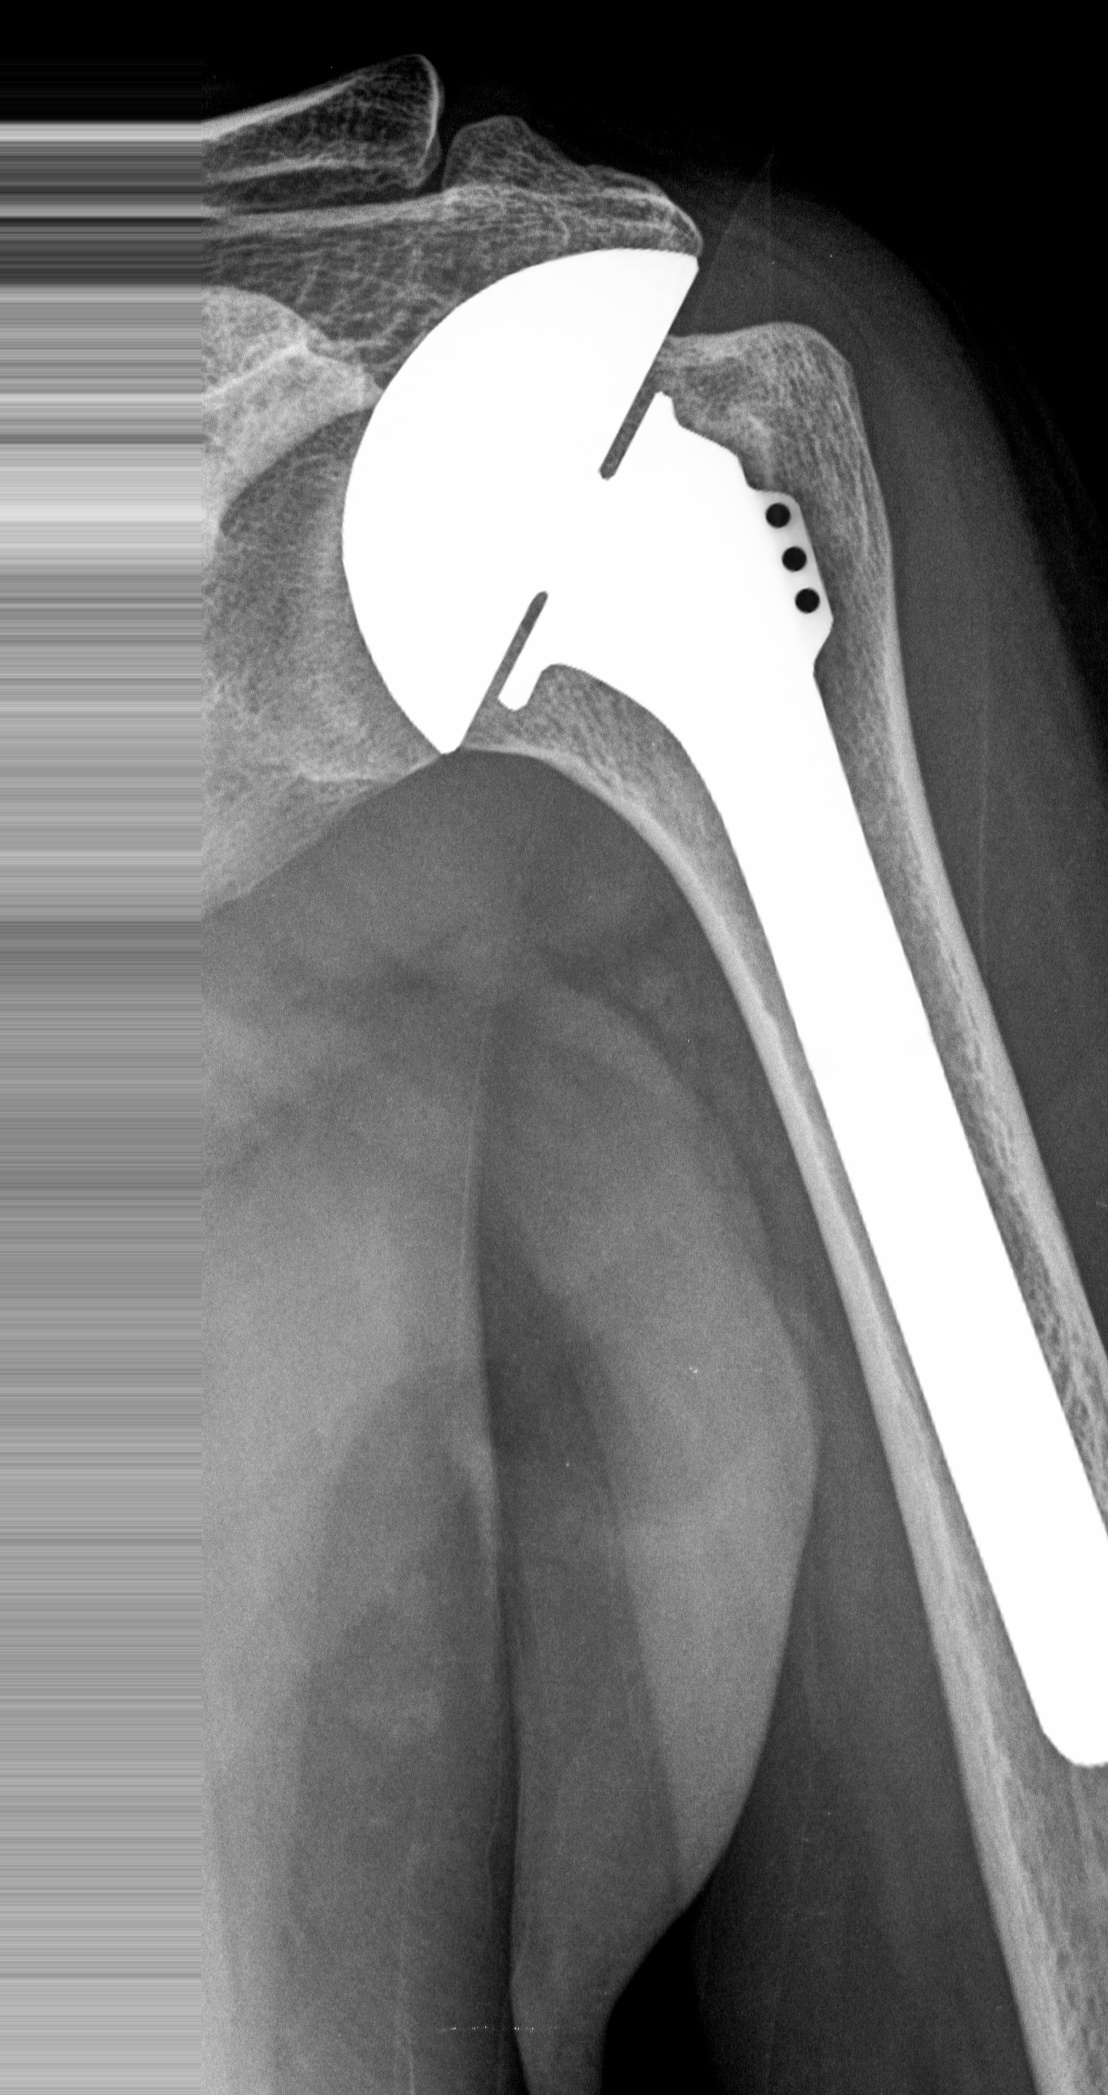Shoulder - Olympia - Wright: (338, 249, 857, 779)
